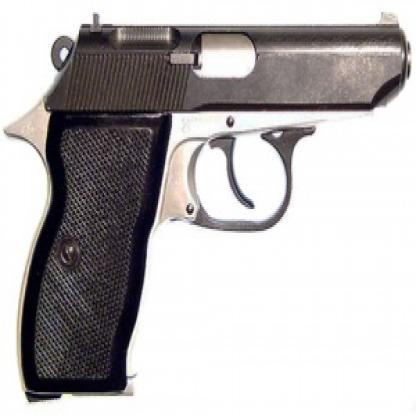Guns: (1, 2, 414, 414)
